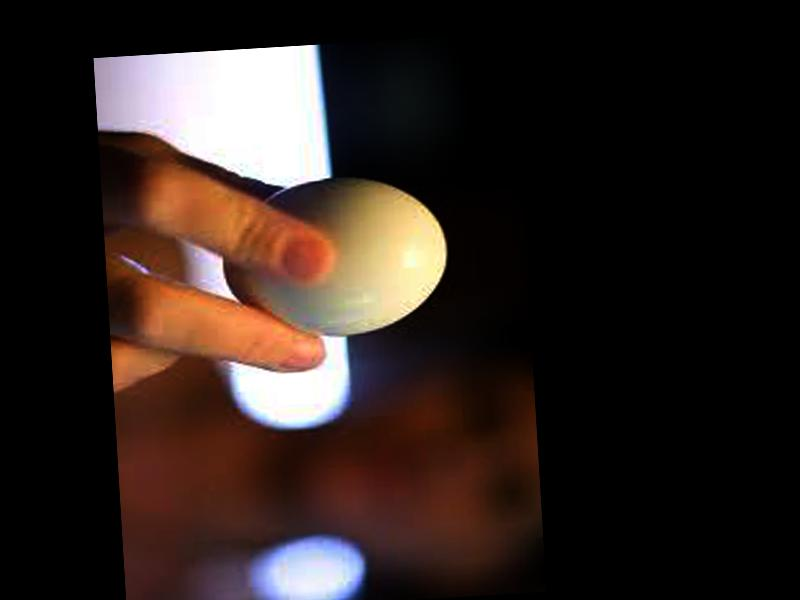Eggs: (218, 174, 452, 346)
